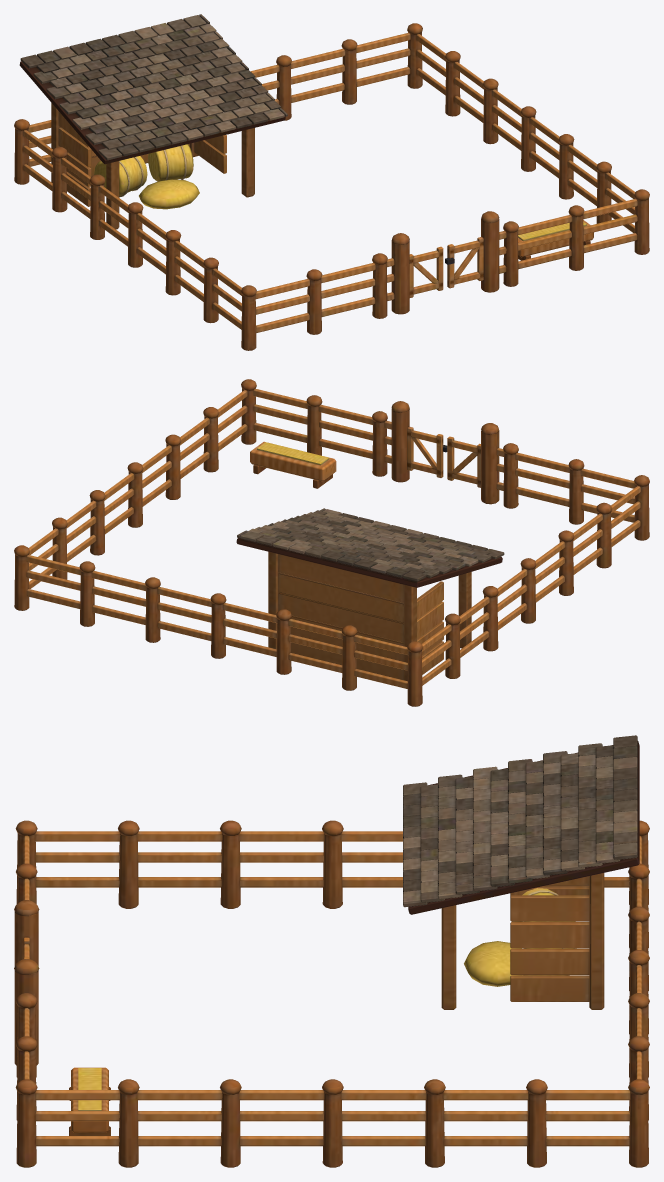
Rendered from swiss_pasture.glb.
3 views of the same model, one above another, from view 1: azimuth 30°, elevation 25°; view 2: azimuth 150°, elevation 25°; view 3: azimuth 270°, elevation 25° (orthographic). The views are drawn at different scales.
Visible parts, largest first — view 1: swiss_pasture, gate1, gate0; view 2: swiss_pasture, gate1, gate0; view 3: swiss_pasture.
Part boxes in pixels (left/top/right/bottom): swiss_pasture: left=14, top=14, right=649, bottom=350; gate1: left=445, top=236, right=483, bottom=288; gate0: left=409, top=246, right=443, bottom=297; swiss_pasture: left=14, top=379, right=649, bottom=706; gate1: left=407, top=426, right=447, bottom=477; gate0: left=447, top=436, right=480, bottom=487; swiss_pasture: left=14, top=735, right=649, bottom=1167.
Size of the model in its own units: 3 by 0.9345 by 3.01.
1 material, 1 textured.
